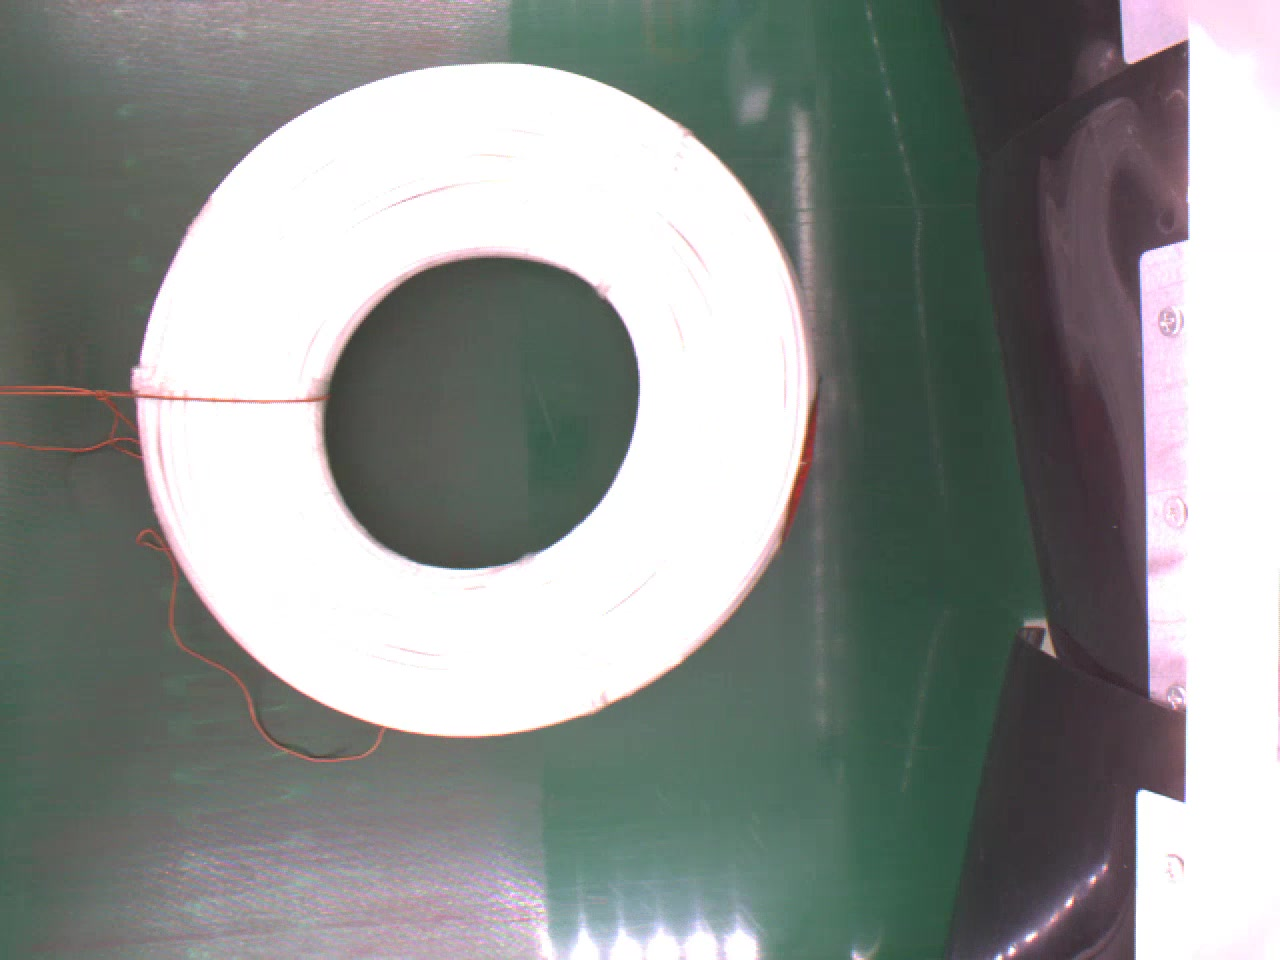white: (138, 65, 820, 729)
